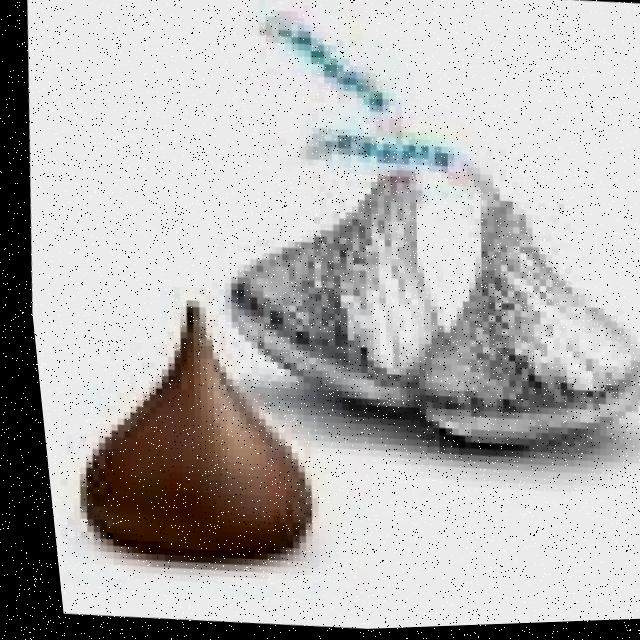kisses: (199, 139, 476, 427), (383, 174, 640, 472)
